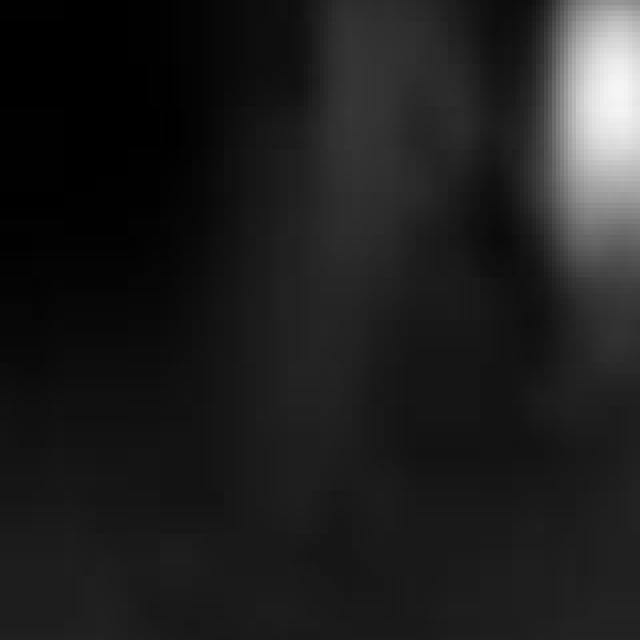person: (537, 1, 640, 342)
